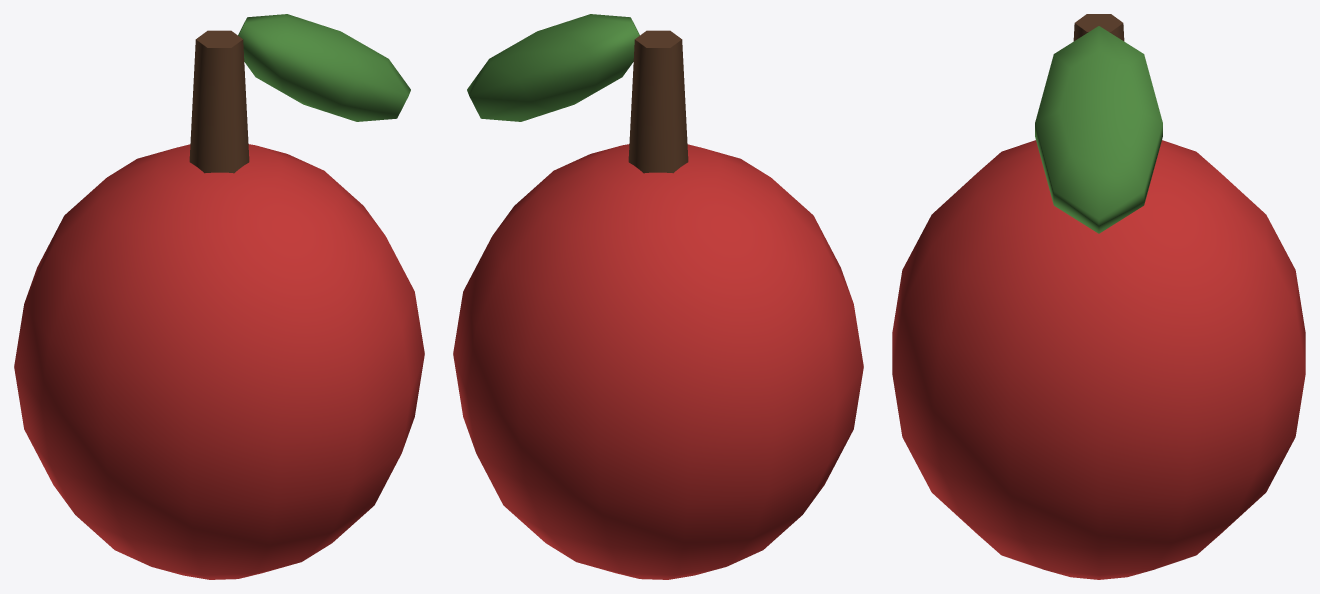
The model's file is product-apples.glb.
The picture shows the model from 3 angles, left to right: view 1: azimuth 30°, elevation 25°; view 2: azimuth 150°, elevation 25°; view 3: azimuth 270°, elevation 25°; orthographic projection. The views are drawn at different scales.
Visible parts, largest first — view 1: n3, n5, n4; view 2: n3, n5, n4; view 3: n3, n5, n4.
Part boxes in pixels (left/top/right/bottom): n3: left=14, top=144, right=424, bottom=579; n5: left=238, top=14, right=410, bottom=121; n4: left=189, top=30, right=249, bottom=173; n3: left=453, top=144, right=863, bottom=579; n5: left=467, top=14, right=639, bottom=121; n4: left=628, top=30, right=688, bottom=173; n3: left=892, top=140, right=1305, bottom=579; n5: left=1035, top=26, right=1162, bottom=233; n4: left=1073, top=14, right=1124, bottom=41.
Size of the model in its own units: 0.1622 by 0.2235 by 0.1525.
